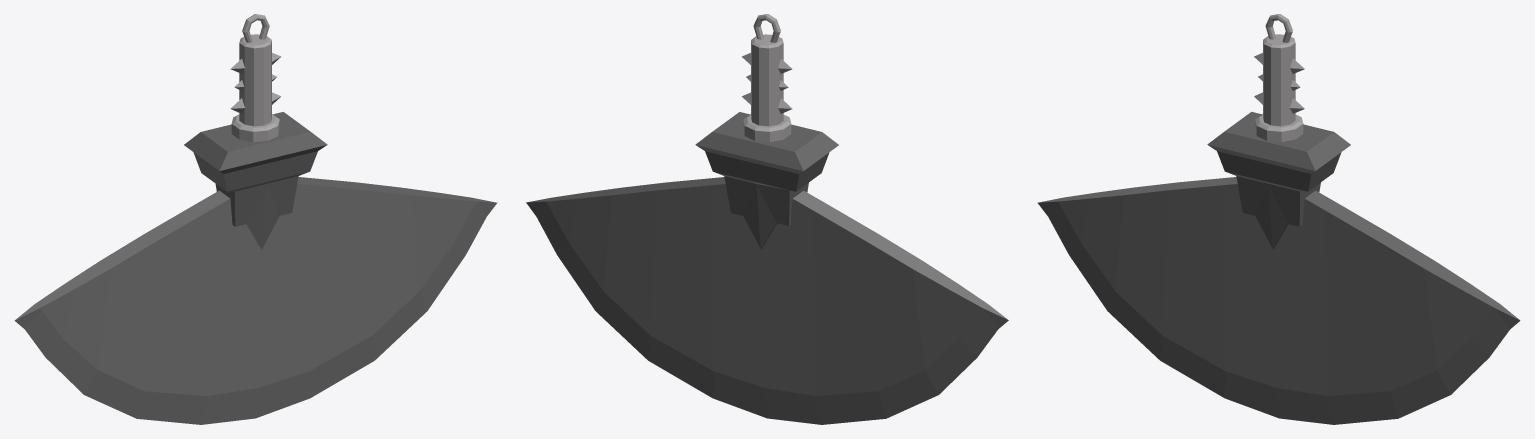
The model's file is StonePendulumTrap_4.fbx.
The picture shows the model from 3 angles, left to right: view 1: azimuth 30°, elevation 25°; view 2: azimuth 150°, elevation 25°; view 3: azimuth 330°, elevation 25°; orthographic projection.
Visible parts, largest first — view 1: StonePendulumTrap_4; view 2: StonePendulumTrap_4; view 3: StonePendulumTrap_4.
Part boxes in pixels (x1,y1,x2,y2): StonePendulumTrap_4: (14, 14, 497, 424); StonePendulumTrap_4: (526, 14, 1008, 424); StonePendulumTrap_4: (1037, 14, 1520, 424).
Size of the model in its own units: 162 by 130 by 20.83.
